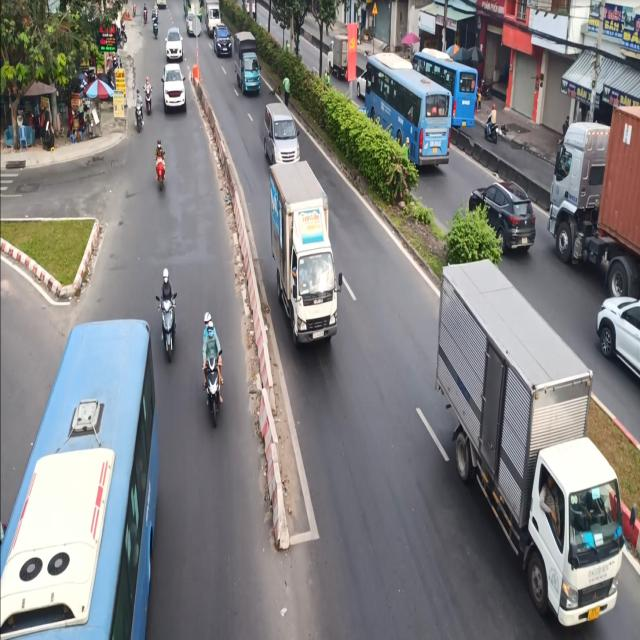car: (259, 99, 301, 166), (161, 57, 188, 118), (164, 24, 186, 62)
motor: (202, 309, 232, 425), (160, 261, 178, 346), (152, 139, 171, 200)
truck: (428, 254, 634, 640), (267, 158, 342, 358), (232, 30, 266, 98)
